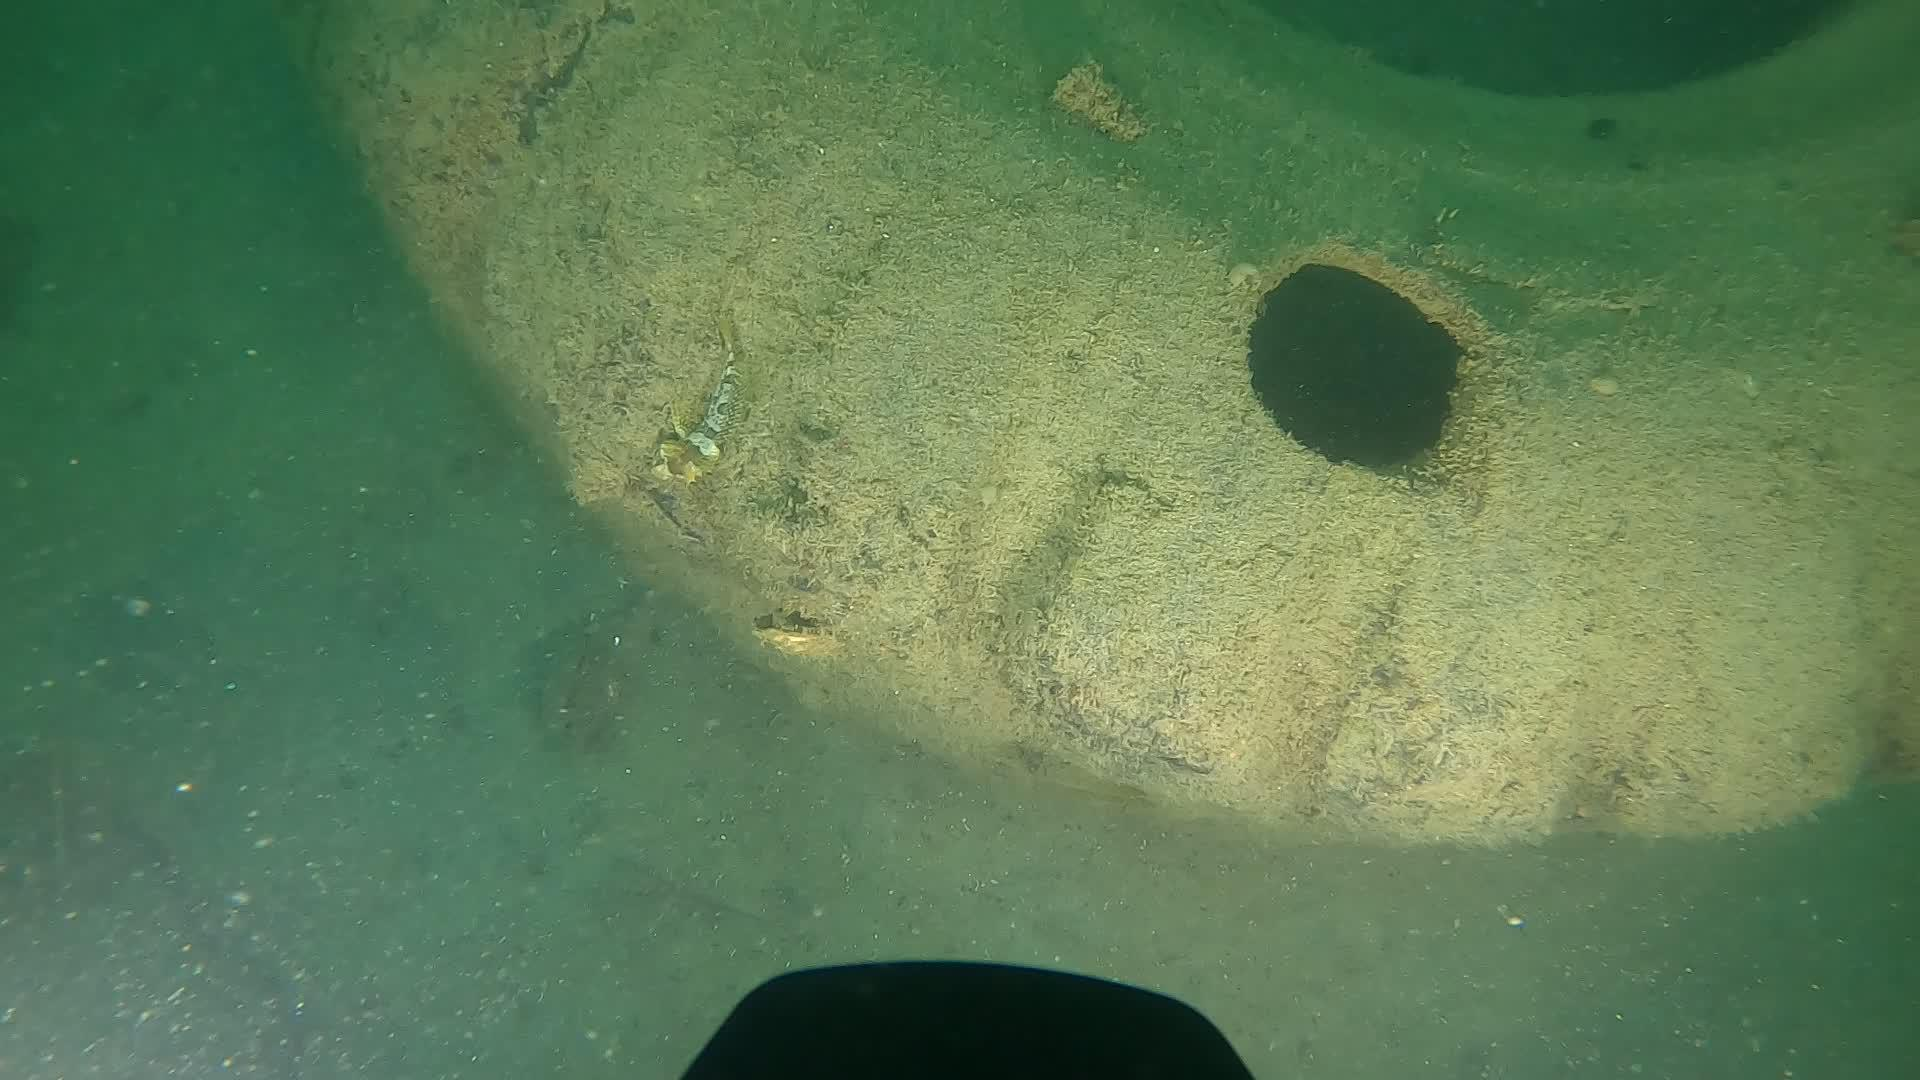tire: (286, 0, 1920, 843)
